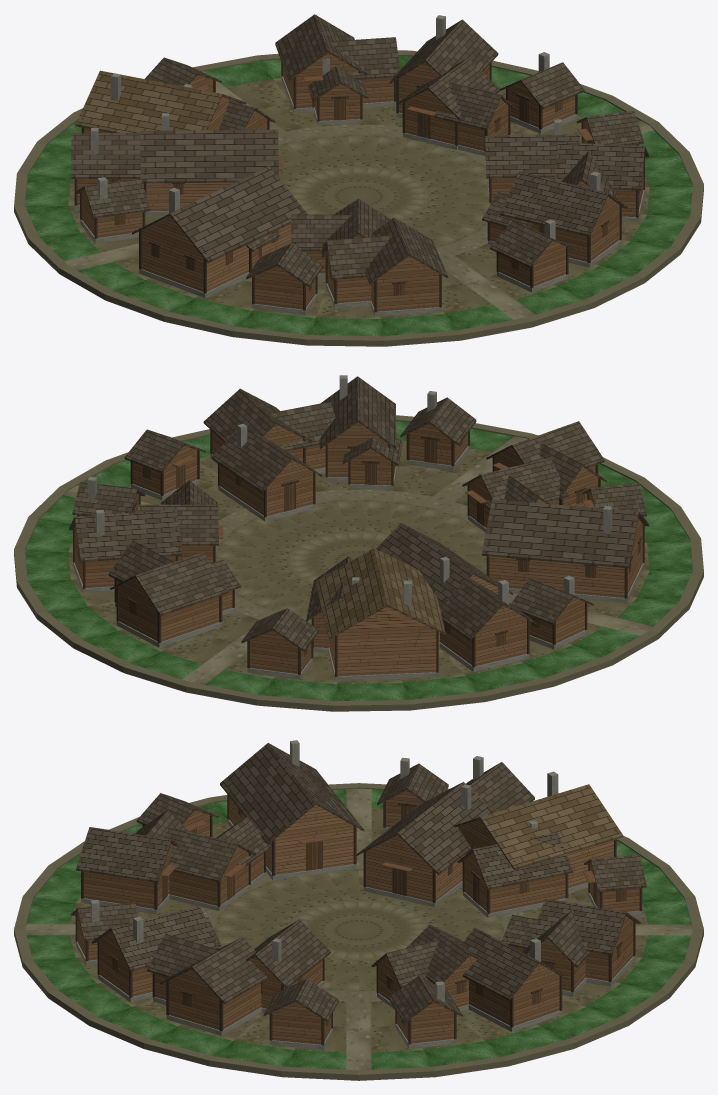
Rendered from ae_forest_village_small_lod1.glb.
3 views of the same model, one above another, from view 1: azimuth 30°, elevation 25°; view 2: azimuth 150°, elevation 25°; view 3: azimuth 270°, elevation 25° (orthographic).
Visible parts, largest first — view 1: ae_forest_village_small_lod1; view 2: ae_forest_village_small_lod1; view 3: ae_forest_village_small_lod1.
Part boxes in pixels (x1,y1,x2,y2): ae_forest_village_small_lod1: [14, 14, 703, 346]; ae_forest_village_small_lod1: [14, 375, 703, 711]; ae_forest_village_small_lod1: [14, 740, 703, 1080].
Size of the model in its own units: 1.9 by 0.2738 by 1.9.
1 material, 1 textured.
